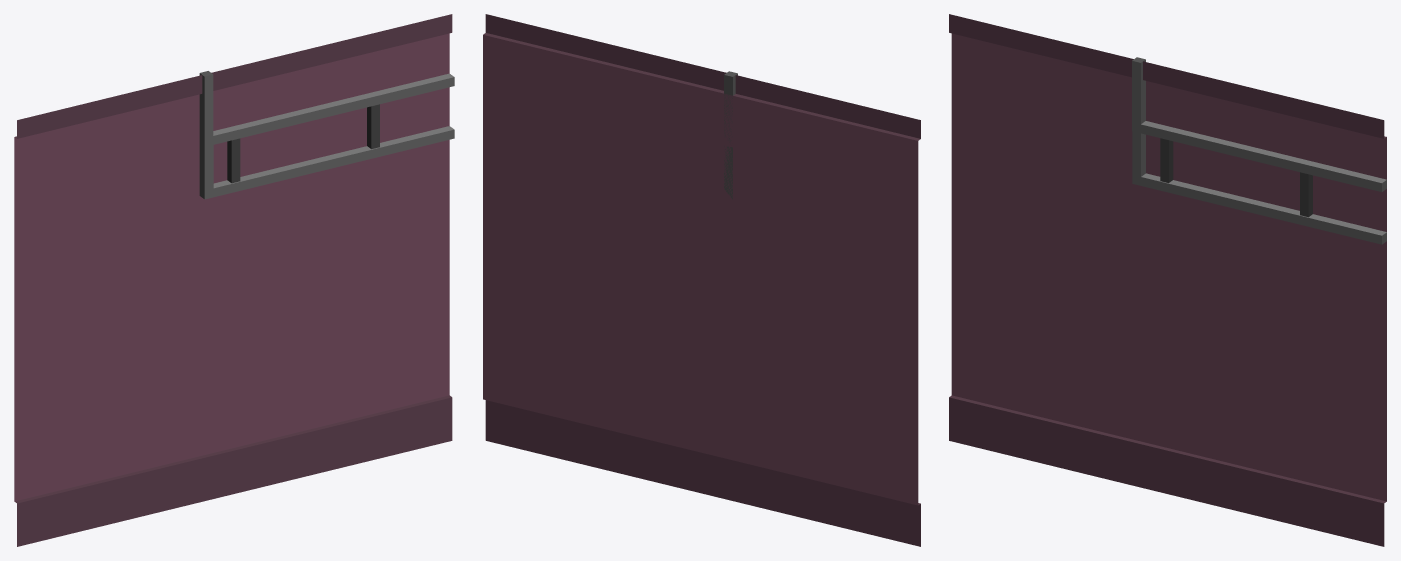
File: AI_Env_Wall_Pink_Electronics_Start.fbx
3 views of the same model, side by side, from view 1: azimuth 30°, elevation 25°; view 2: azimuth 150°, elevation 25°; view 3: azimuth 330°, elevation 25° (orthographic).
Parts seen in each view (by area): view 1: AI_Env_Wall_Pink_Electronics_Start; view 2: AI_Env_Wall_Pink_Electronics_Start; view 3: AI_Env_Wall_Pink_Electronics_Start.
Part boxes in pixels (bbox=[...]): AI_Env_Wall_Pink_Electronics_Start: bbox=[14, 14, 454, 546]; AI_Env_Wall_Pink_Electronics_Start: bbox=[483, 14, 920, 546]; AI_Env_Wall_Pink_Electronics_Start: bbox=[949, 14, 1386, 546].
Bounding box in the file's own units: 5 × 4.69 × 0.0984.
